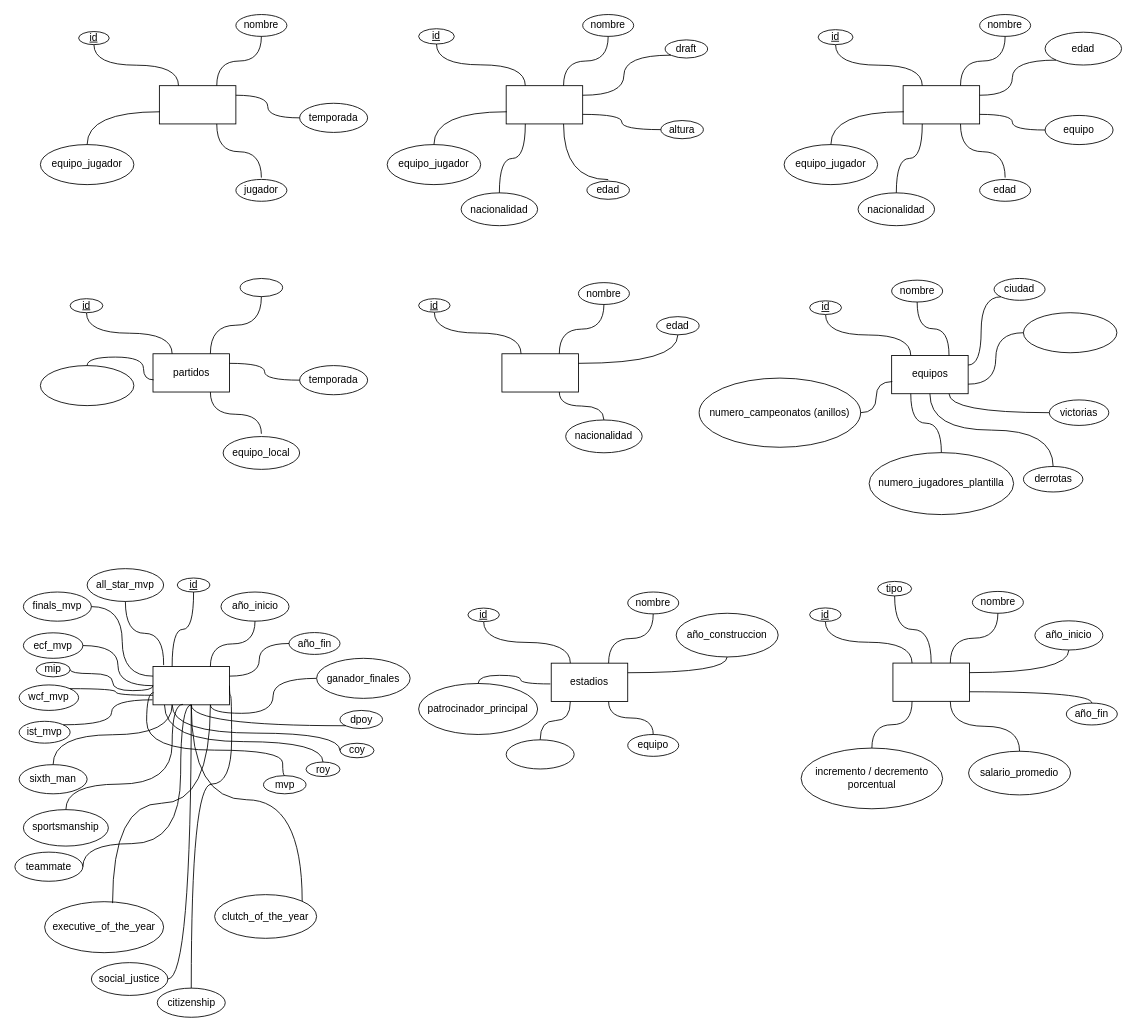
The diagram is 1136 pixels wide and 1033 high, and some of its shapes have lost their labels. Each missing label, with the box of its shape:
arbitros: (501, 353, 578, 392)
capacidad: (505, 739, 574, 769)
contratos: (892, 662, 969, 701)
entrenadores: (902, 85, 980, 124)
equipo_visitante: (40, 365, 134, 406)
fecha: (239, 278, 283, 297)
jugadores: (505, 85, 583, 124)
nombre_estadio: (1023, 312, 1117, 353)
premios: (159, 85, 236, 124)
temporadas: (152, 666, 230, 705)
